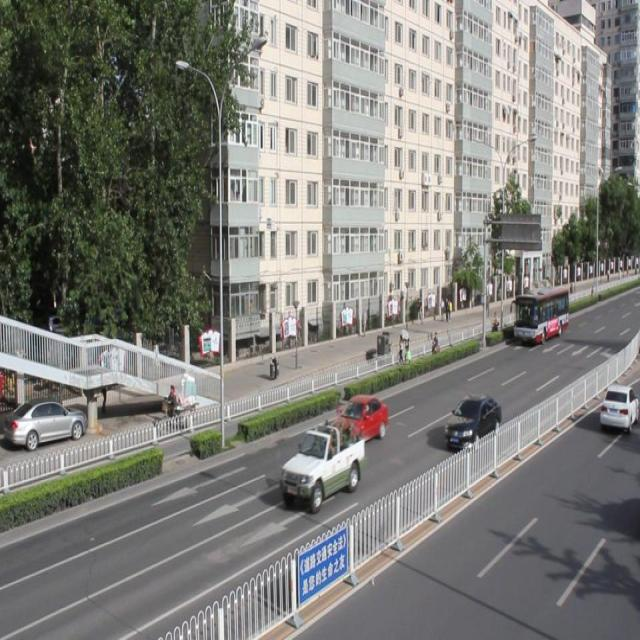car: (280, 420, 363, 509), (444, 393, 501, 451), (330, 391, 388, 445), (598, 384, 640, 429)
